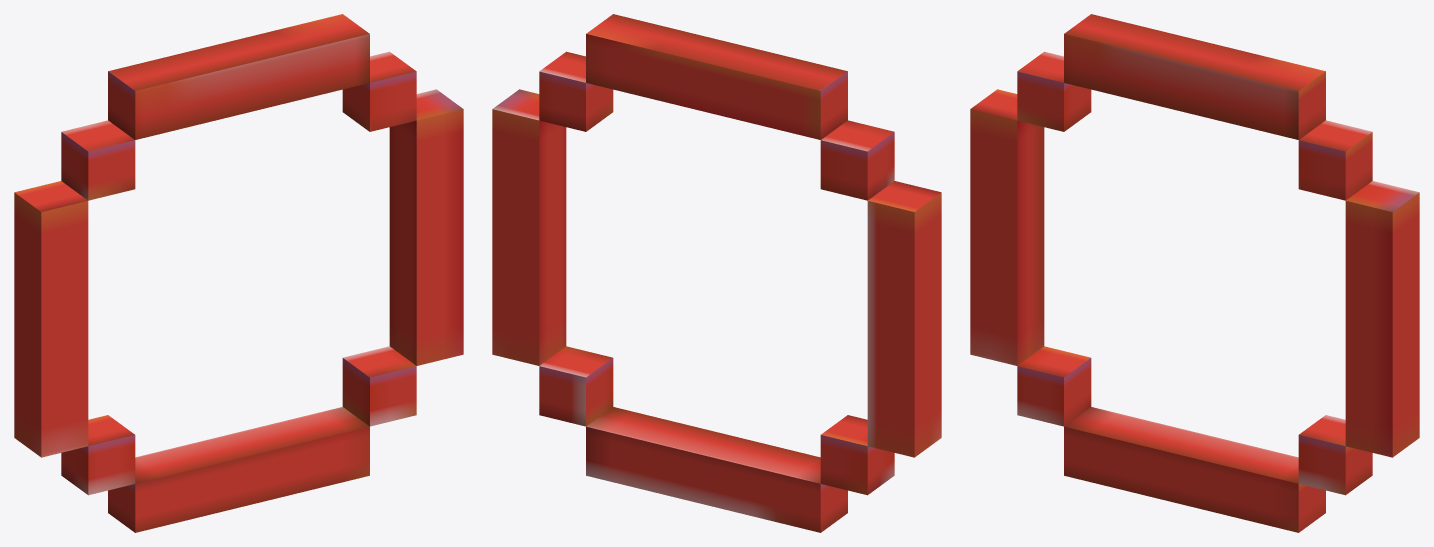
The model's file is Matrix_9.dae.
The picture shows the model from 3 angles, left to right: view 1: azimuth 30°, elevation 25°; view 2: azimuth 150°, elevation 25°; view 3: azimuth 330°, elevation 25°; orthographic projection.
Visible parts, largest first — view 1: Matrix_9; view 2: Matrix_9; view 3: Matrix_9.
Boxes of the visible parts, x1,y1,x2,y2 form: Matrix_9: [14, 14, 463, 532]; Matrix_9: [492, 14, 941, 532]; Matrix_9: [970, 14, 1419, 532].
Bounding box in the file's own units: 9 × 9 × 1.
